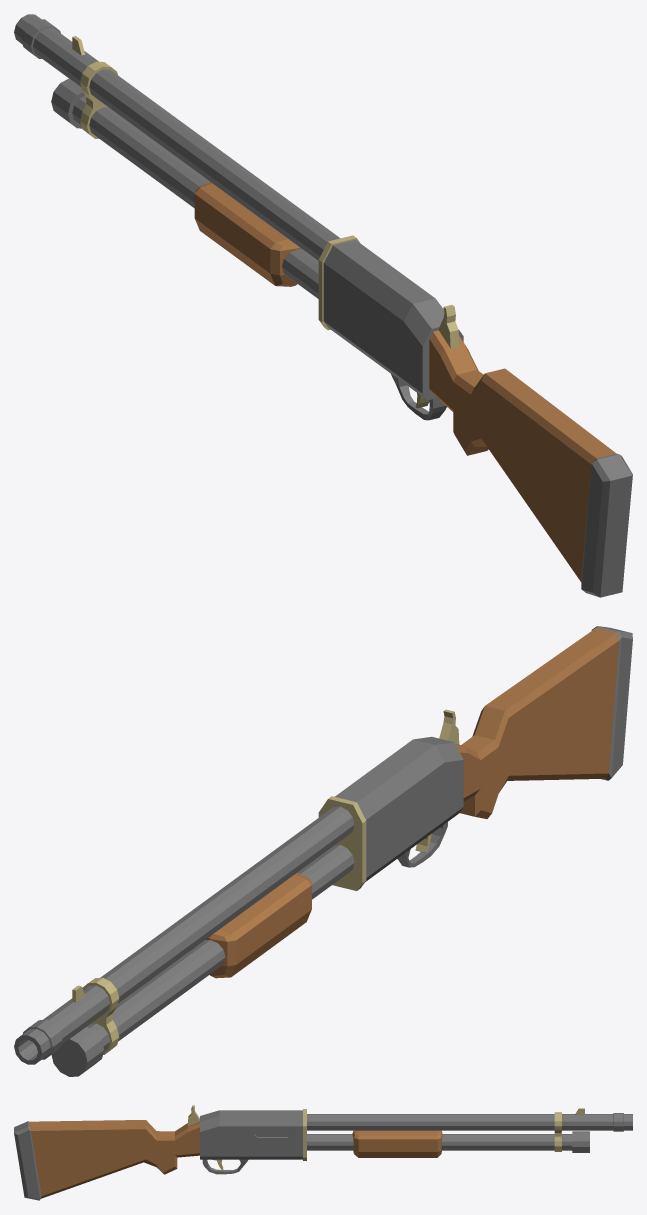
Rendered from PMPSG.glb.
3 views of the same model, one above another, from view 1: azimuth 30°, elevation 25°; view 2: azimuth 150°, elevation 25°; view 3: azimuth 270°, elevation 25° (orthographic). The views are drawn at different scales.
Visible parts, largest first — view 1: Shotgun_B_c26556, Shotgun_B_3cb760, Shotgun_B_2e8819; view 2: Shotgun_B_c26556, Shotgun_B_3cb760, Shotgun_B_2e8819; view 3: Shotgun_B_c26556, Shotgun_B_3cb760, Shotgun_B_2e8819.
Part boxes in pixels (x1=…): Shotgun_B_c26556: x1=14, y1=14, x2=632, y2=597; Shotgun_B_3cb760: x1=194, y1=182, x2=616, y2=581; Shotgun_B_2e8819: x1=72, y1=36, x2=459, y2=408; Shotgun_B_c26556: x1=14, y1=626, x2=632, y2=1076; Shotgun_B_3cb760: x1=205, y1=627, x2=618, y2=978; Shotgun_B_2e8819: x1=72, y1=709, x2=459, y2=1054; Shotgun_B_c26556: x1=14, y1=1110, x2=632, y2=1200; Shotgun_B_3cb760: x1=29, y1=1120, x2=442, y2=1198; Shotgun_B_2e8819: x1=187, y1=1105, x2=584, y2=1170.
Bounding box in the file's own units: 0.0426 × 0.163 × 1.
